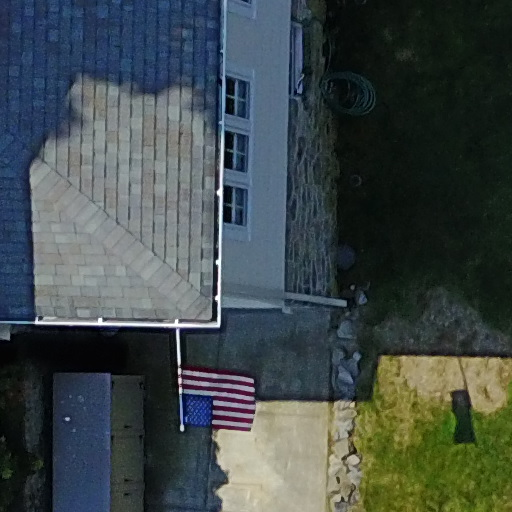hose: (311, 59, 387, 126)
